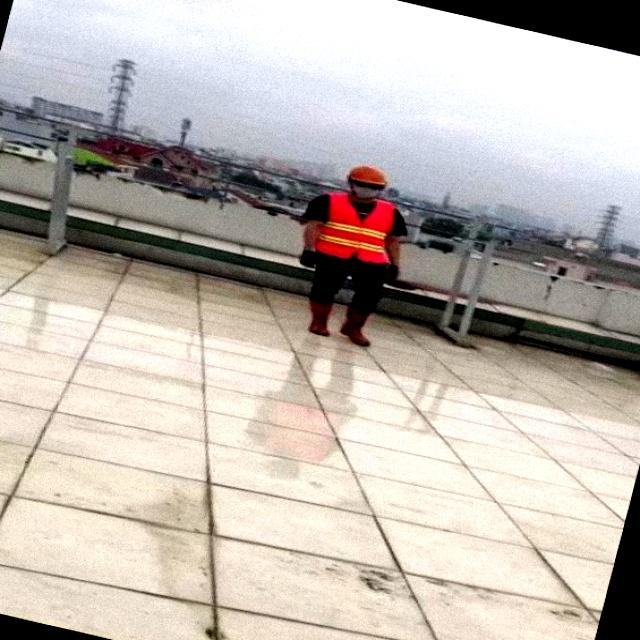helmet: (336, 162, 398, 184)
safety_vest: (313, 183, 405, 272)
